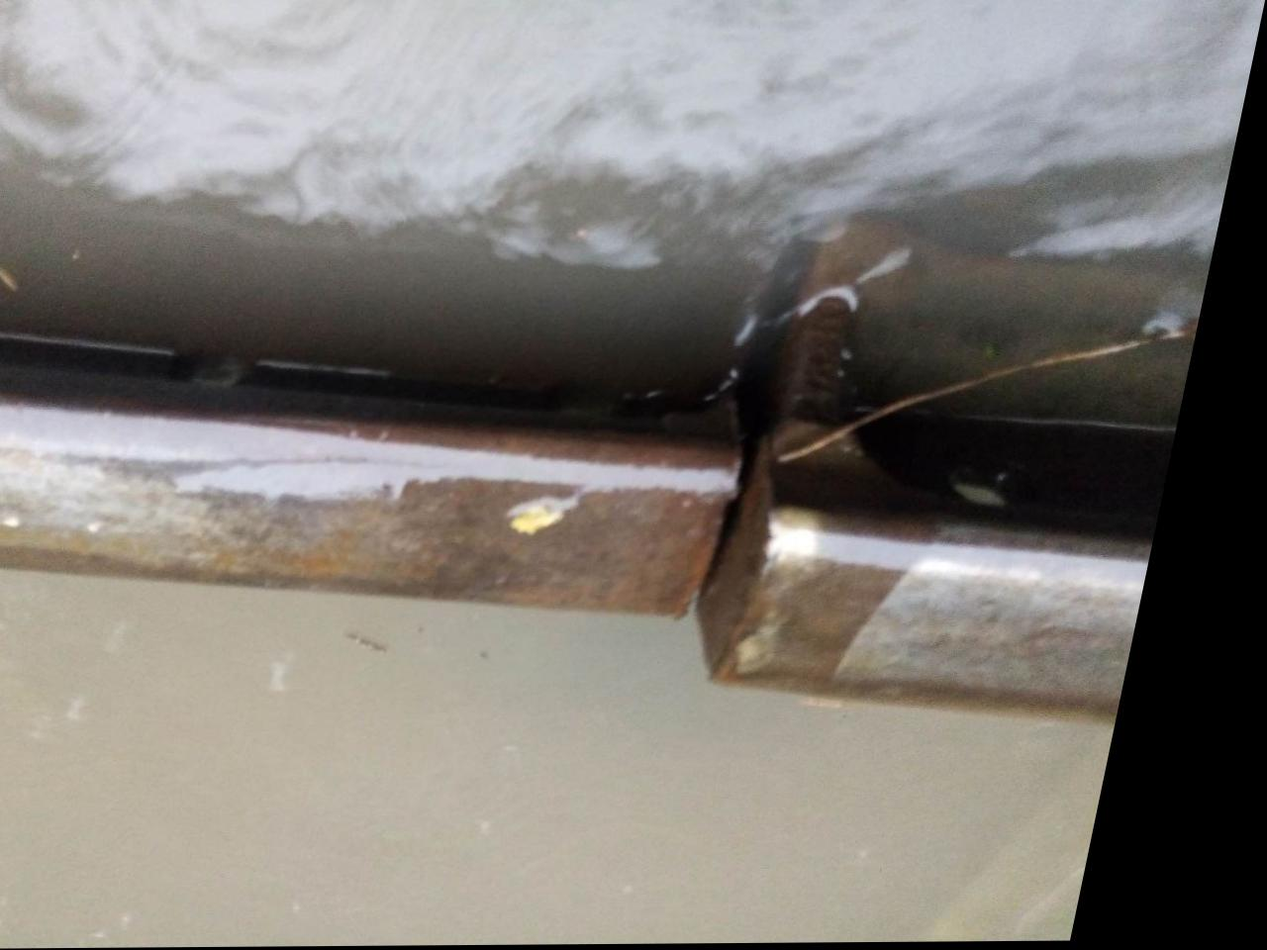person: (503, 355, 1029, 755)
